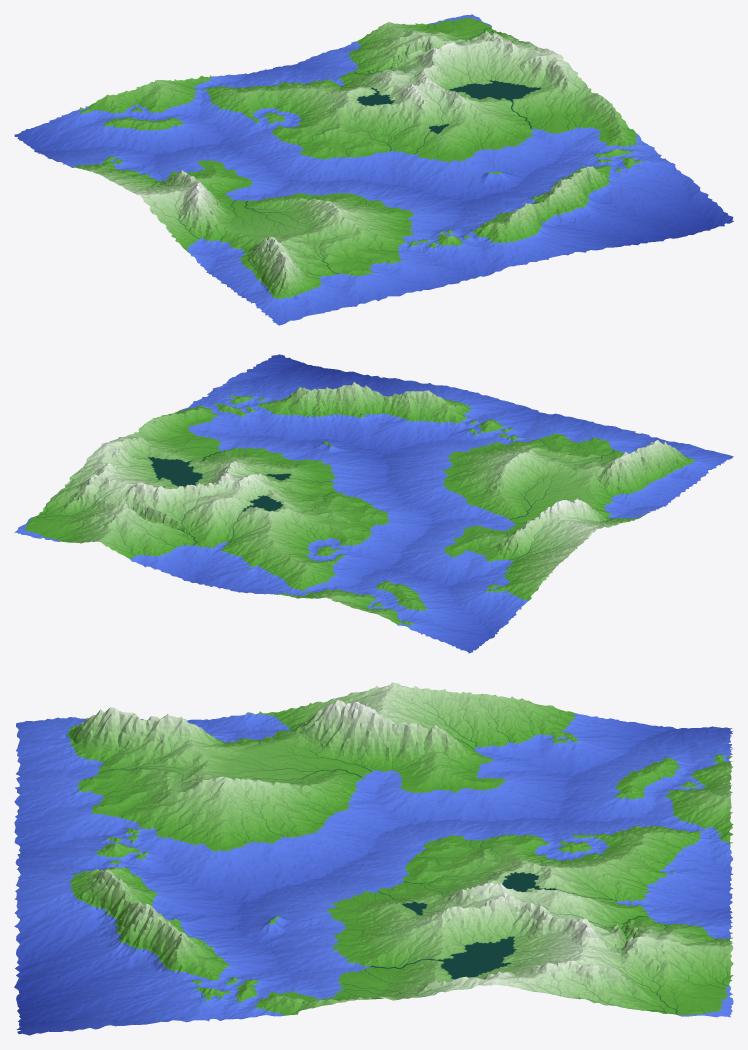
The model's file is Chasers.obj.
The picture shows the model from 3 angles, top to bottom: view 1: azimuth 30°, elevation 25°; view 2: azimuth 150°, elevation 25°; view 3: azimuth 270°, elevation 25°; orthographic projection. The views are drawn at different scales.
Size of the model in its own units: 2048 by 205 by 2048.
Materials: 1 (1 with a texture image).
